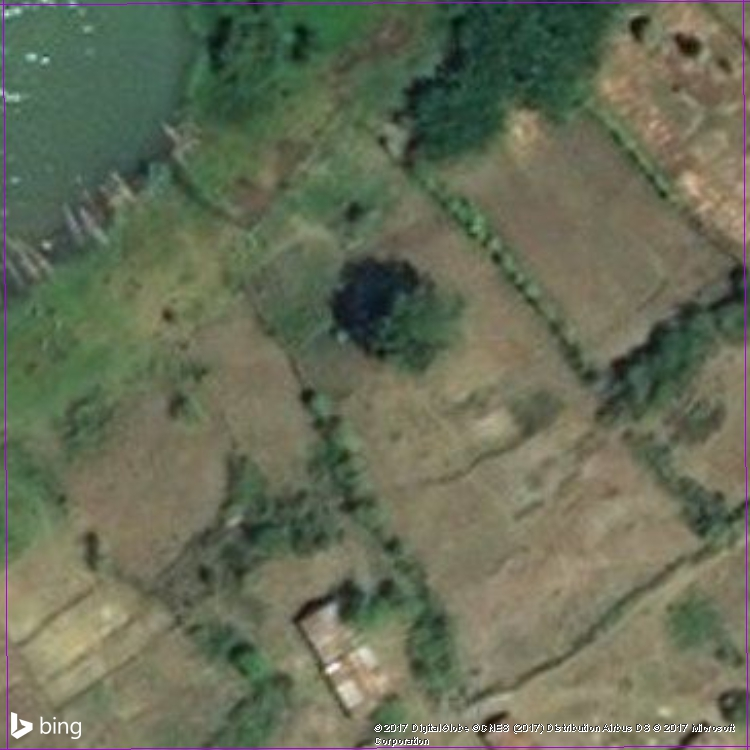boat: (4, 231, 49, 288), (75, 200, 116, 251), (17, 233, 62, 277), (59, 198, 89, 256), (1, 254, 31, 297)
